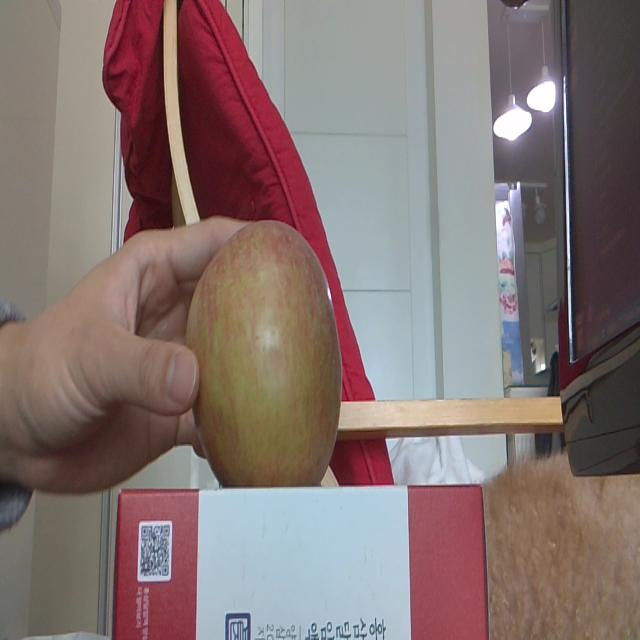apple: (184, 217, 344, 493)
